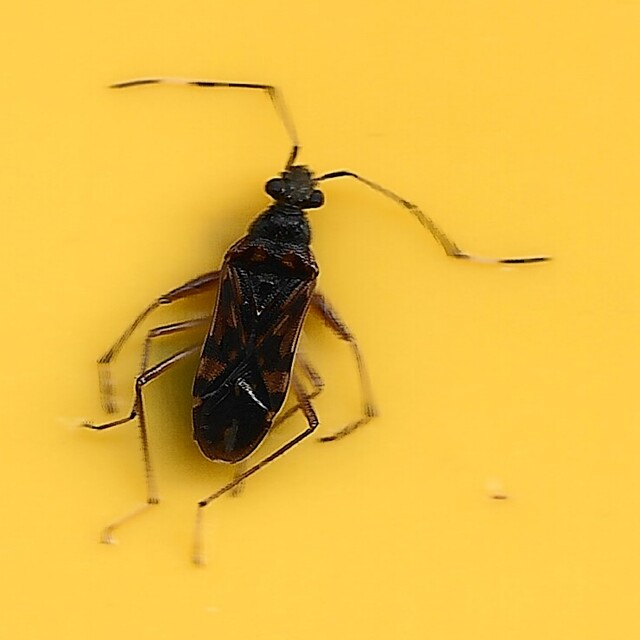Hemiptera: (86, 72, 554, 568)
